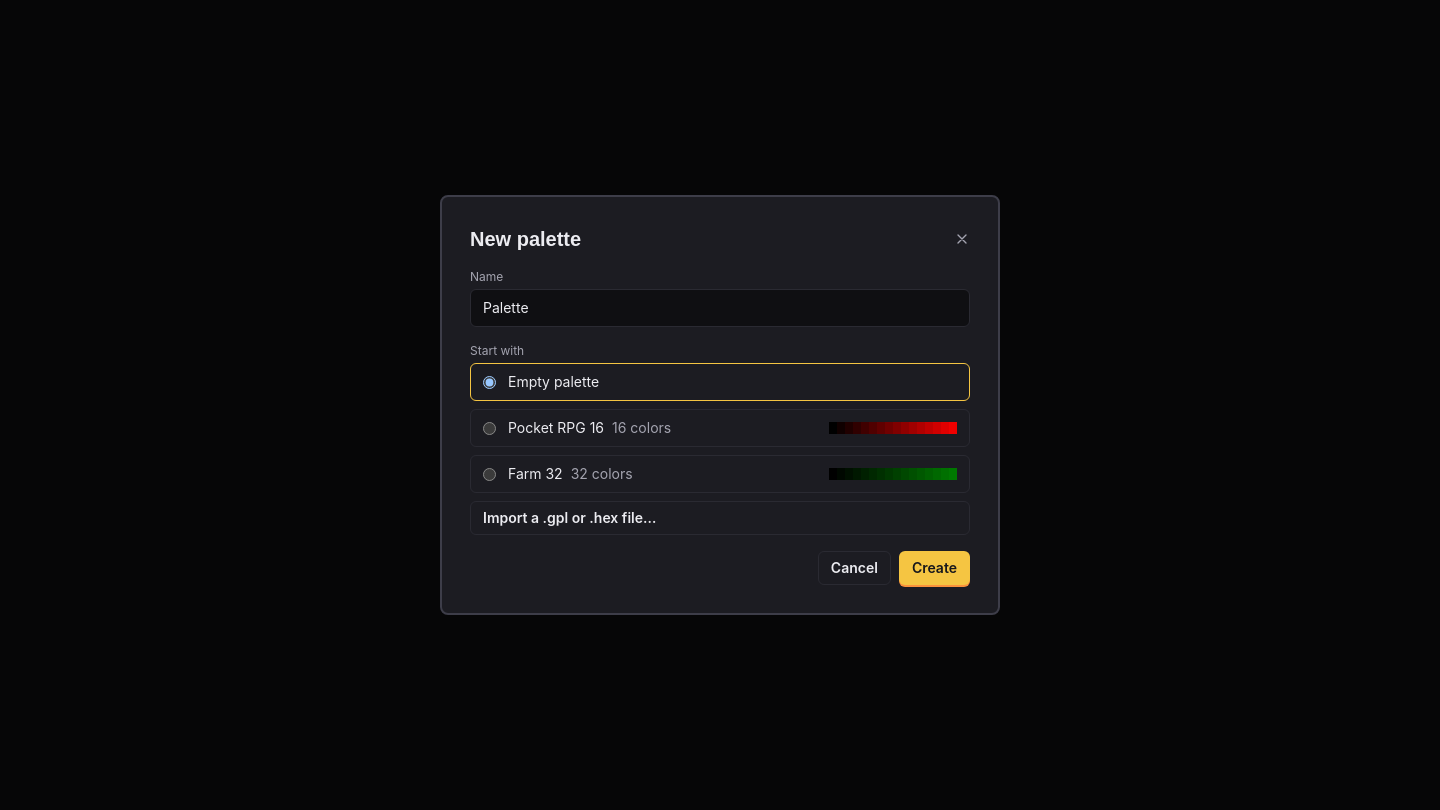
it: New palette dialog › creates a palette from a preset
Later steps or results of the test are not shown.
Expected: the text "16 colors" is shown, [612, 419, 671, 436]
Expected: the text "32 colors" is shown, [571, 465, 633, 482]
What coordinates should you click on to do the following:
click the radio button labelled "Farm 3232 colors"
I would click on:
 (490, 474)
Its box is [483, 468, 496, 480].
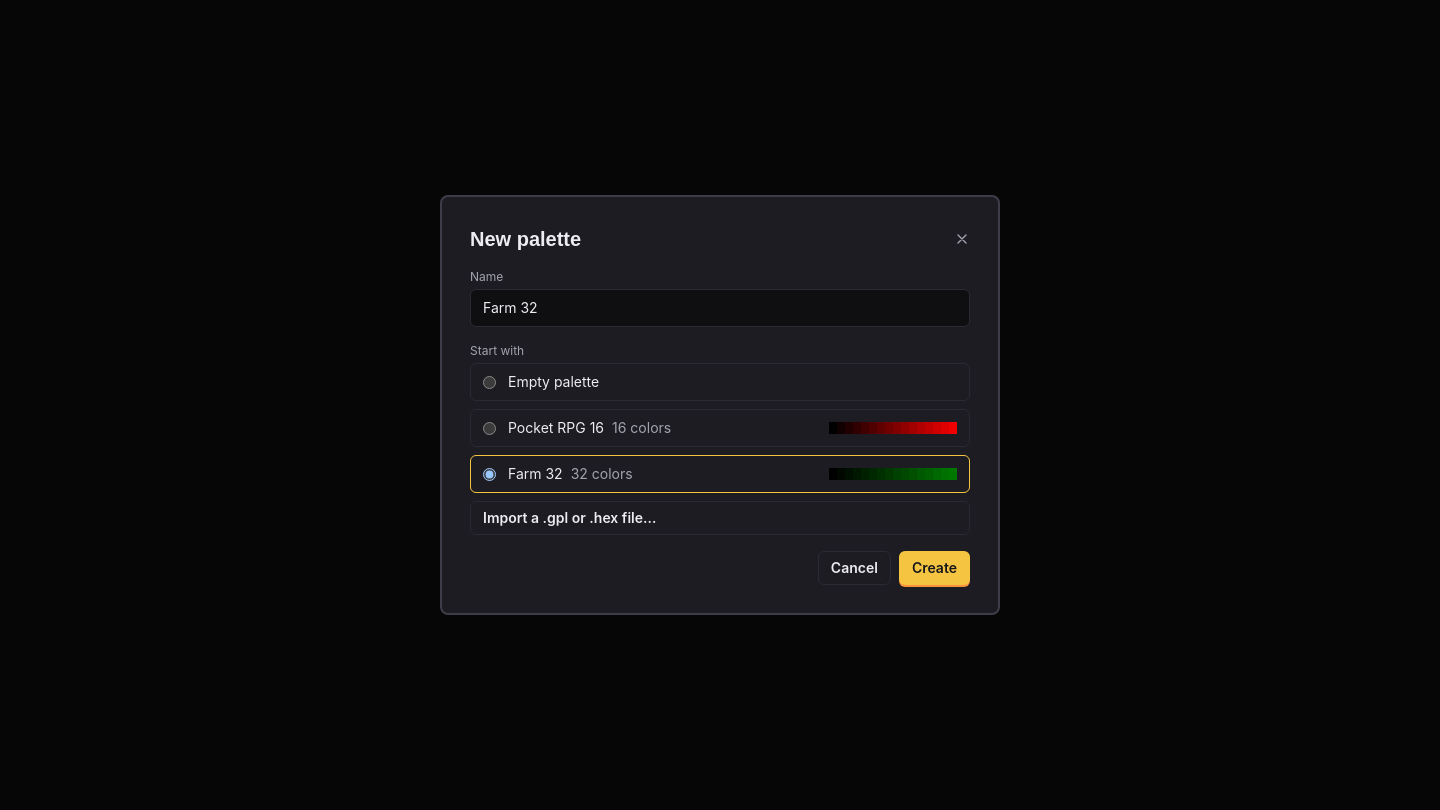
Expected: the field labelled "Name" holds "Farm 32", [470, 289, 970, 327]
